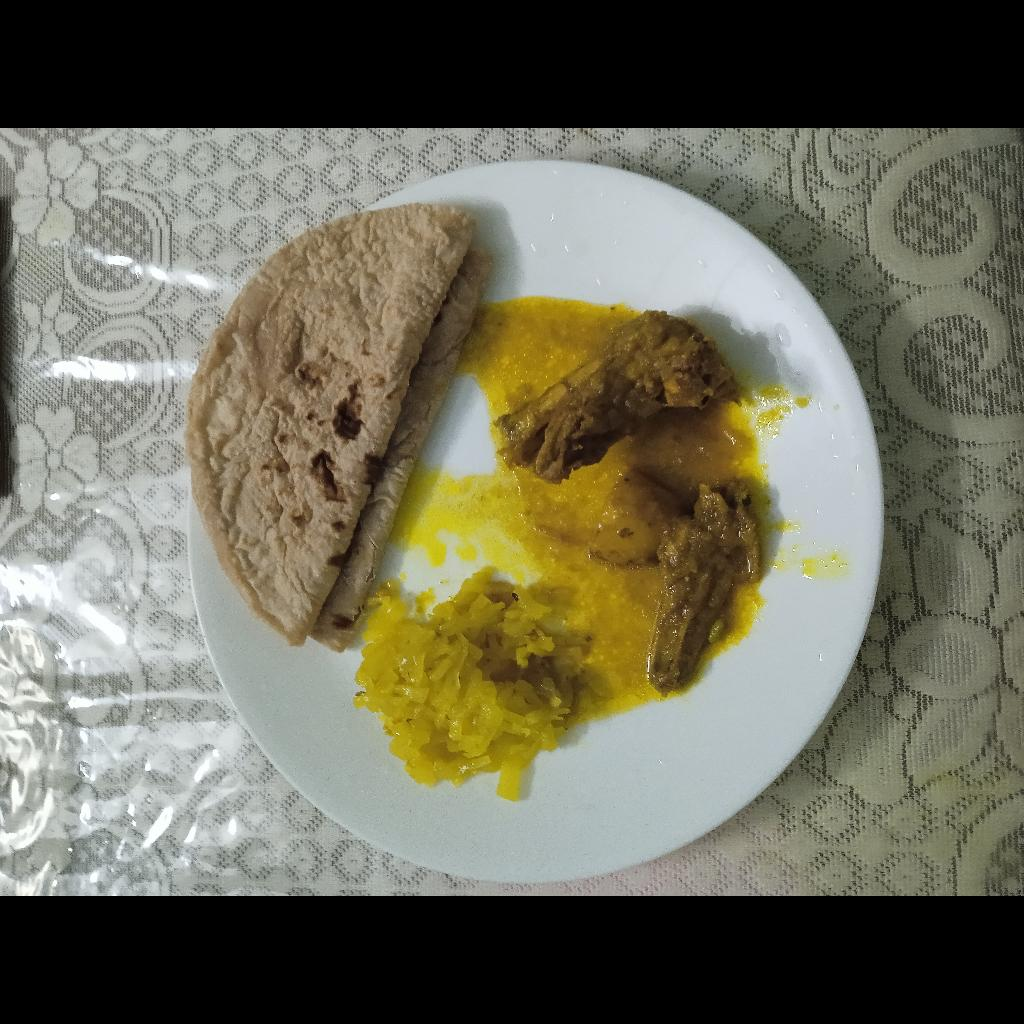cabbage: (348, 569, 591, 806)
chicken: (490, 309, 747, 481), (643, 480, 762, 697)
potato: (588, 469, 688, 571)
ruti: (182, 200, 497, 651)
